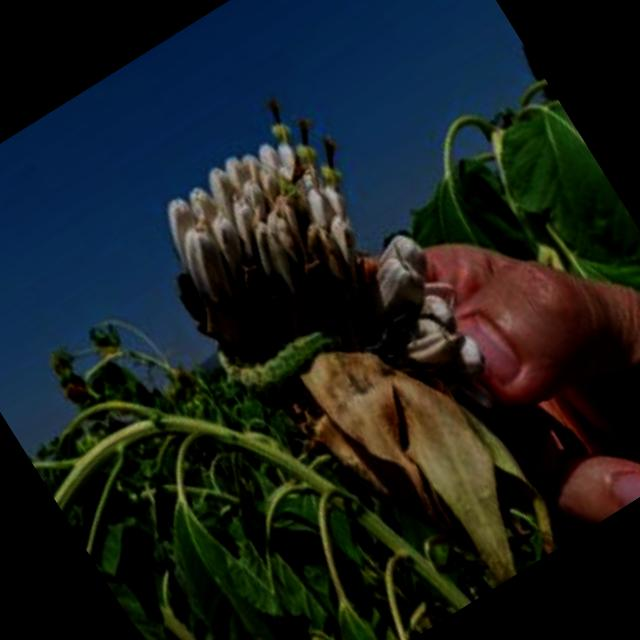Cotton bollworm: (194, 275, 366, 432)
